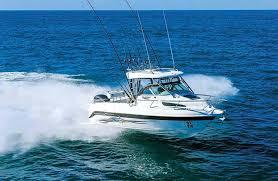fishing boat: (85, 0, 230, 141)
